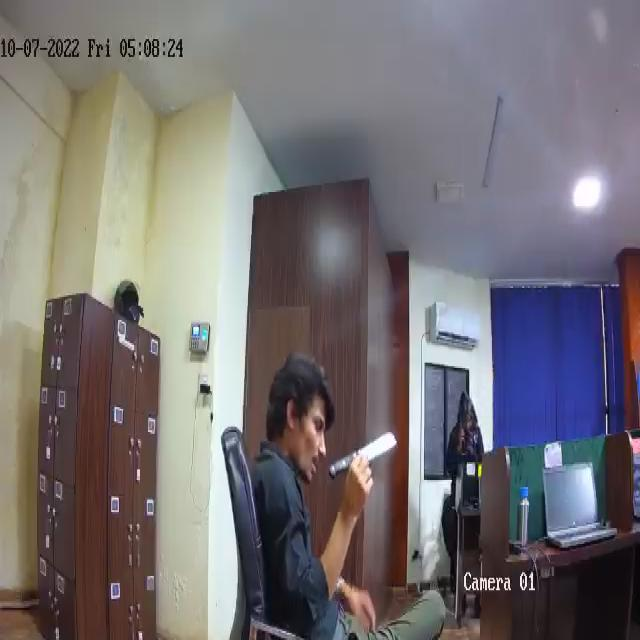Knife: (326, 430, 400, 480)
